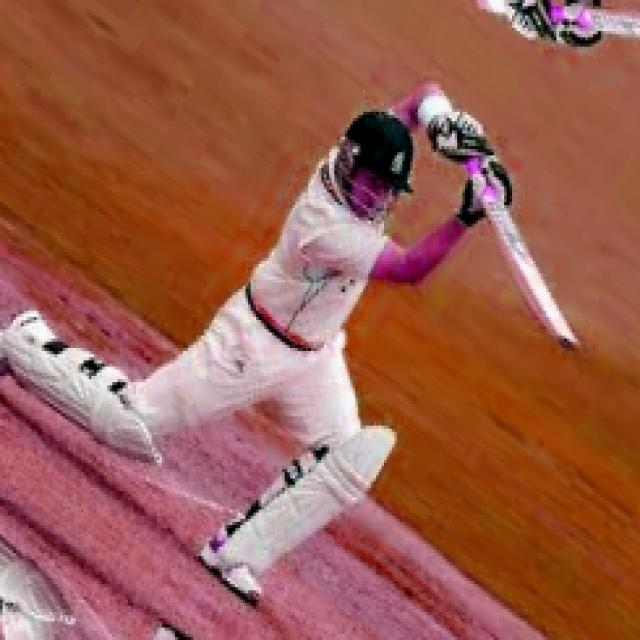toe: (536, 309, 586, 361)
